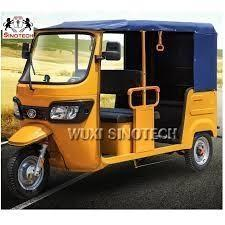keke: (8, 19, 220, 198)
